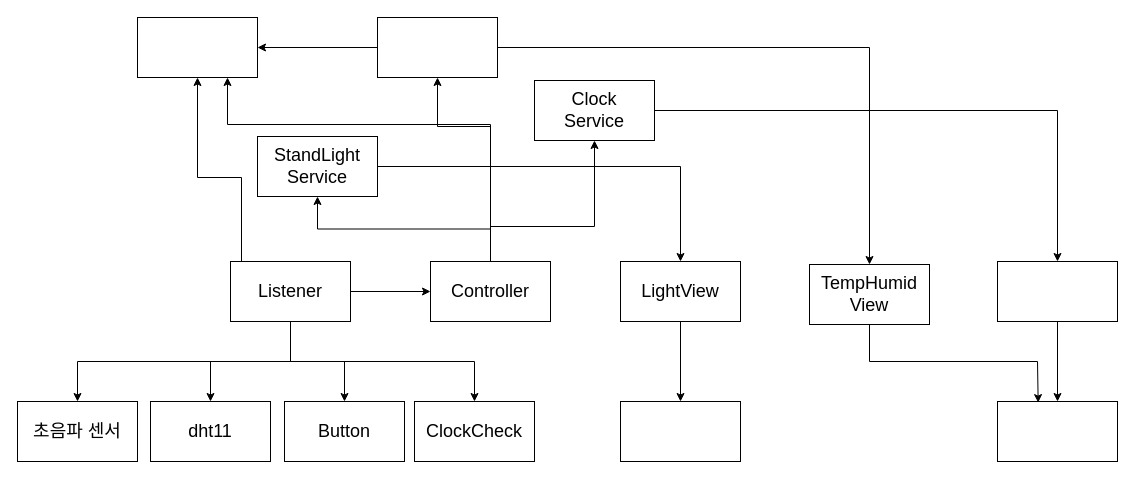
The diagram is 1135 pixels wide and 479 high, and some of its shapes have lost their labels. Here are the shapes that lost their labels. From the top down, the centre of each, then its label:
At point (197, 47): "DHT_Data".
At point (437, 47): "TempHumid Service".
At point (1057, 291): "ClockView".
At point (680, 431): "Led".
At point (1057, 431): "LCD".
